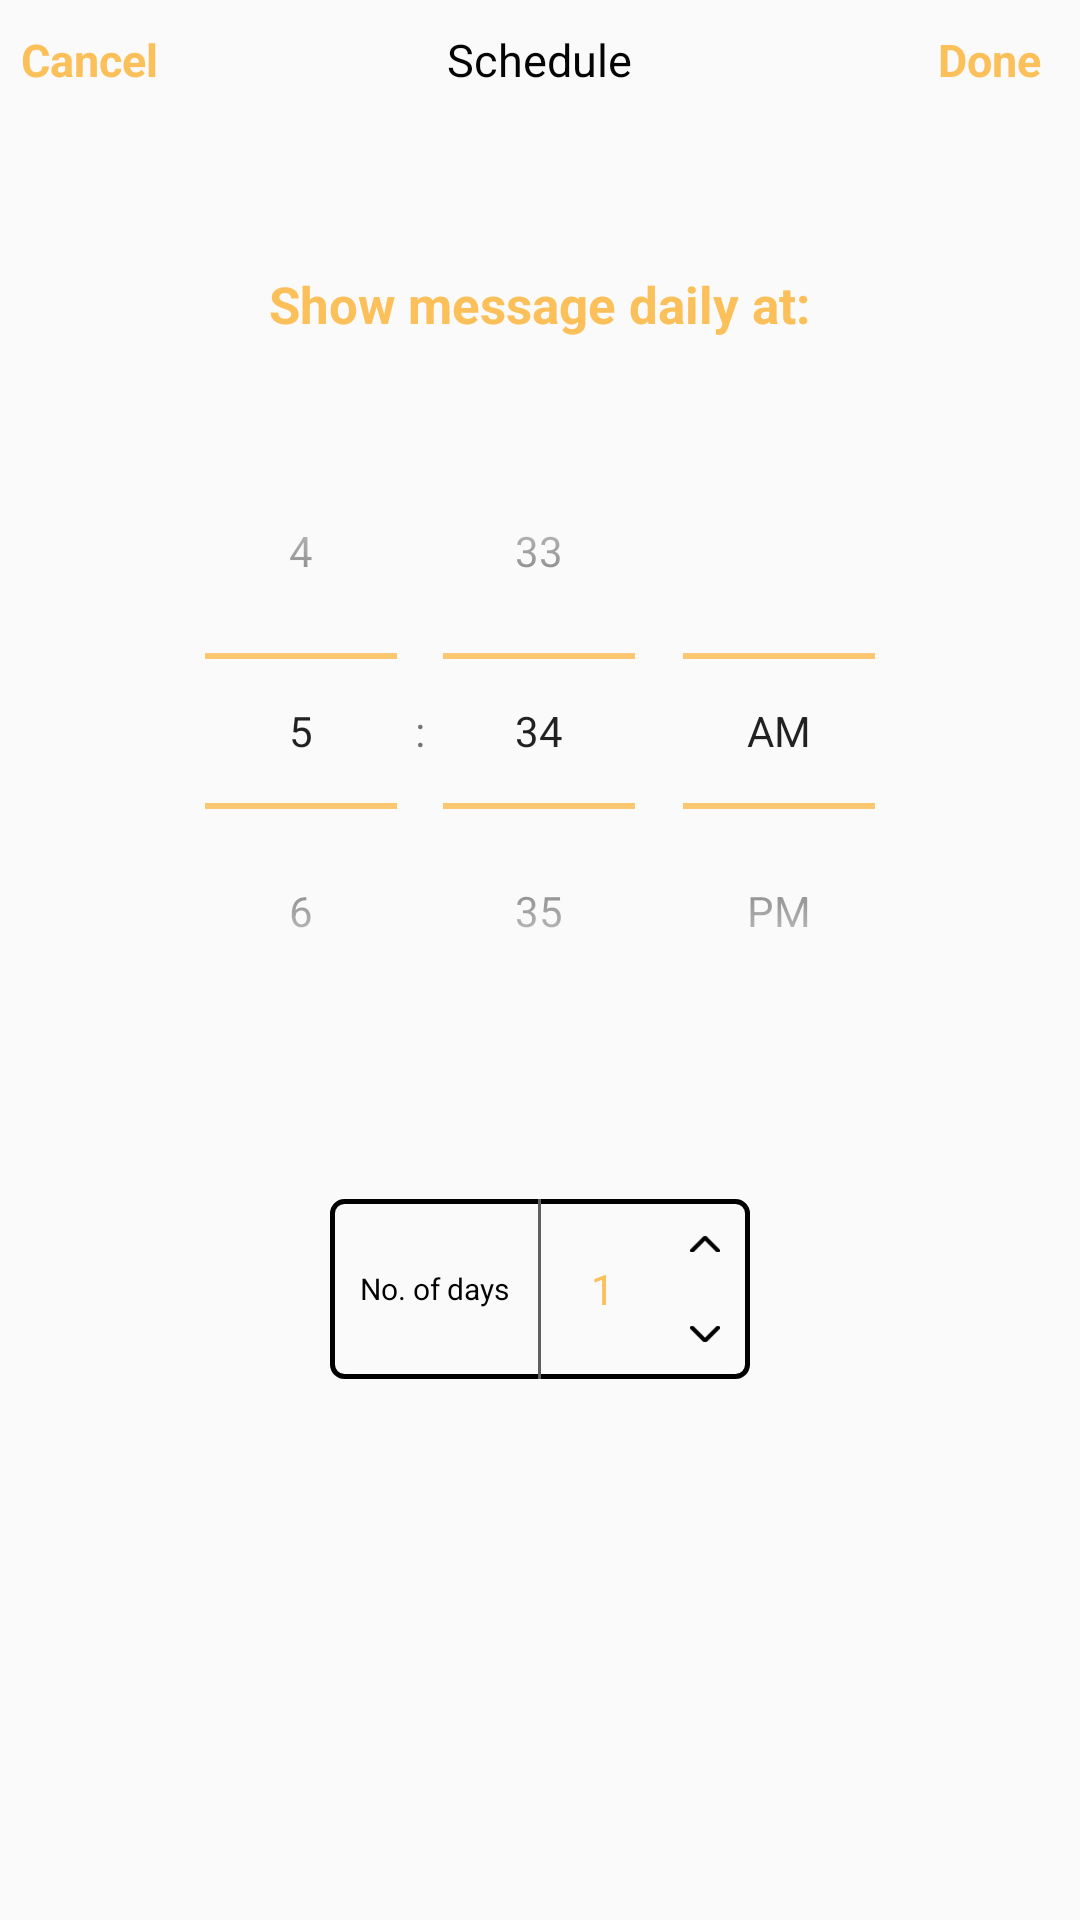

Icon click points for this 1080 x 1920 phone screenshot, format [x,y]:
schedule down: [705,1334]
schedule up: [705,1244]
